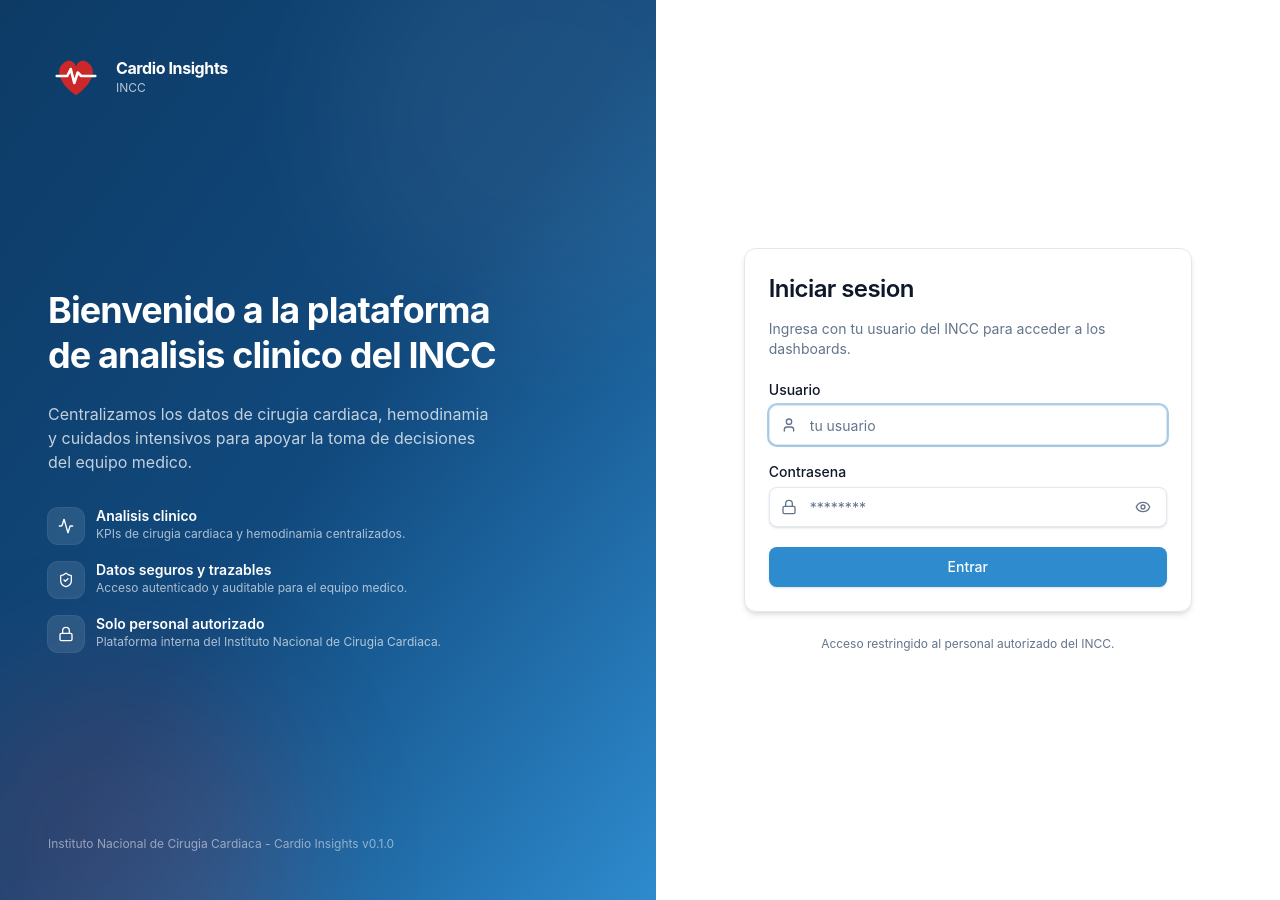
LoginPage › valida campos requeridos
This screenshot has width=1280, height=900.
What coordinates should you click on to do the following:
click the button "Entrar"
I would click on:
 (968, 567)
Its box is [769,547,1167,587].
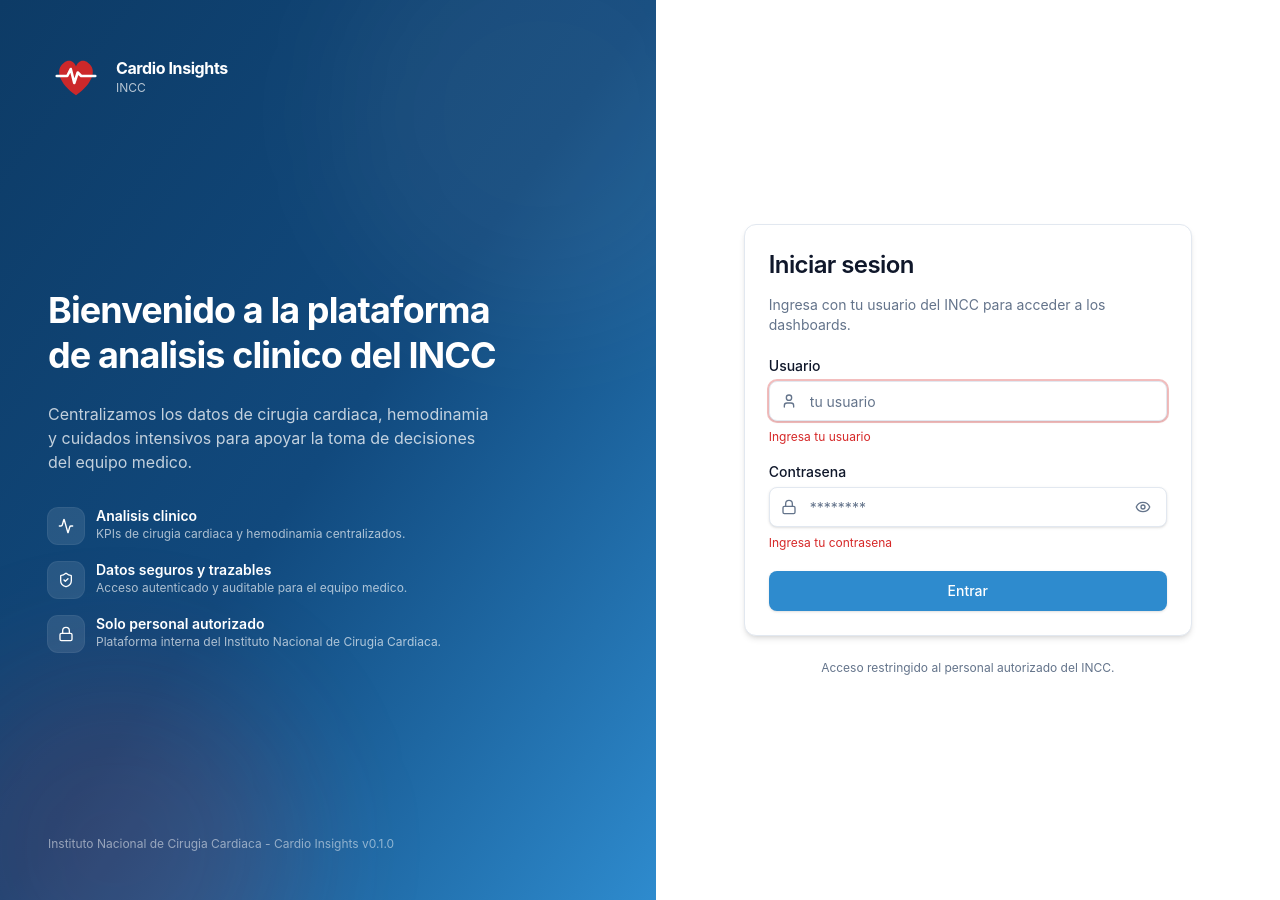
expect the text "Ingresa tu usuario" is shown: met, box [769,429,871,444]
expect the text "Ingresa tu contrasena" is shown: met, box [769,535,892,550]
